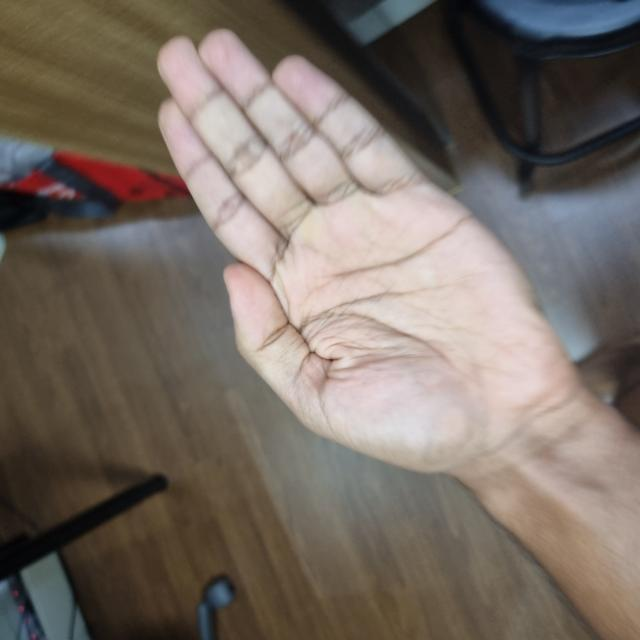Paper: (170, 153, 609, 565)
